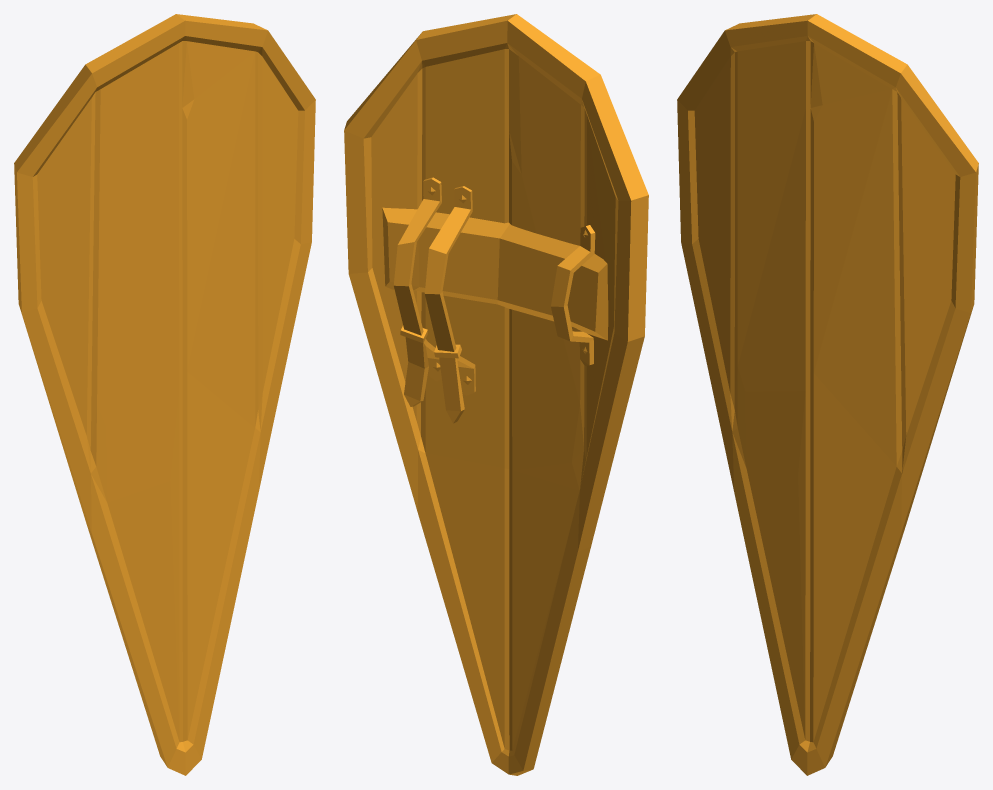
File: SM_Shield_Kite_C.fbx
3 renders of one model, left to right at view 1: azimuth 30°, elevation 25°; view 2: azimuth 150°, elevation 25°; view 3: azimuth 330°, elevation 25°, orthographic.
Visible parts, largest first — view 1: shield-kite-c; view 2: shield-kite-c; view 3: shield-kite-c.
Boxes of the visible parts, x1=… form: shield-kite-c: x1=14, y1=14, x2=315, y2=775; shield-kite-c: x1=344, y1=14, x2=648, y2=775; shield-kite-c: x1=677, y1=14, x2=978, y2=775.
Size of the model in its own units: 0.6127 by 1.48 by 0.1703.
